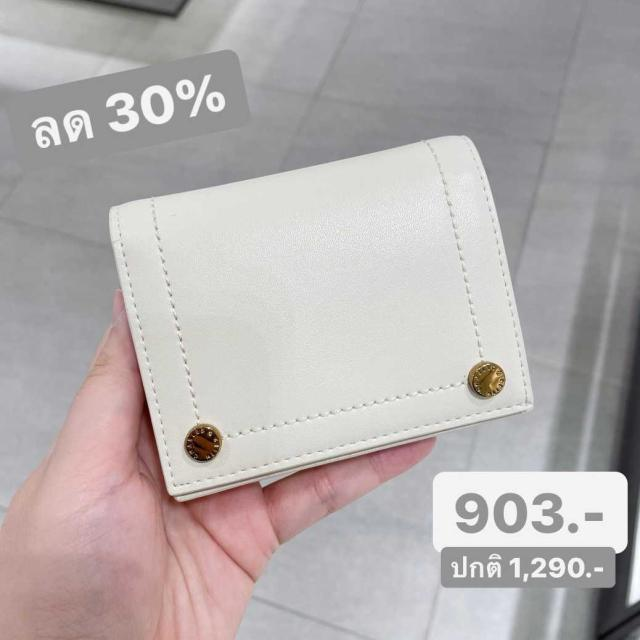handbag: (87, 119, 583, 518)
